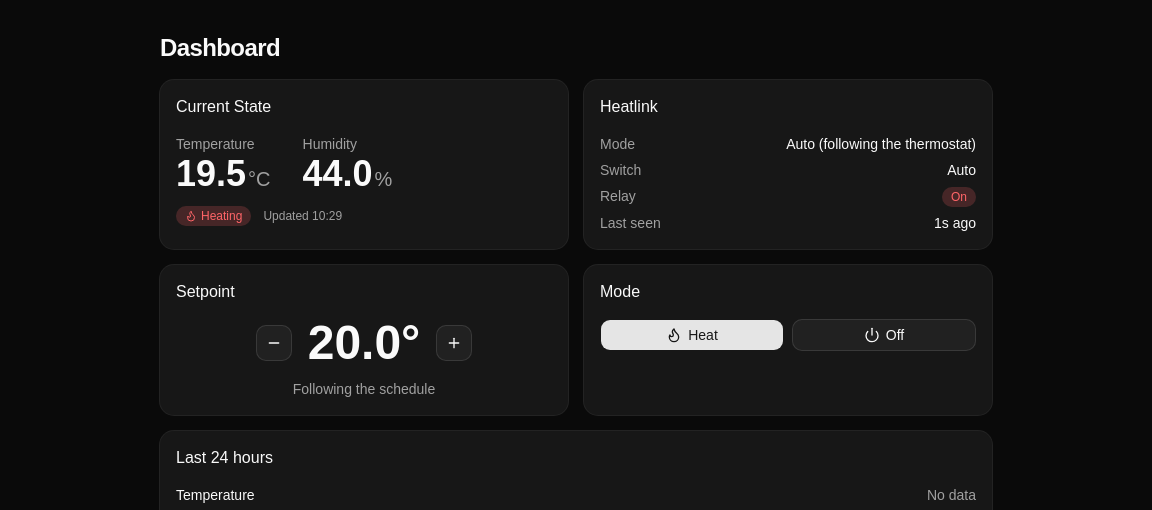
Test: Dashboard › posts a debounced setpoint
Expected: the text "19.5" is shown, left=176, top=153, right=246, bottom=194
Click the button named "Increase setpoint" at (454,343), box left=436, top=325, right=472, bottom=361
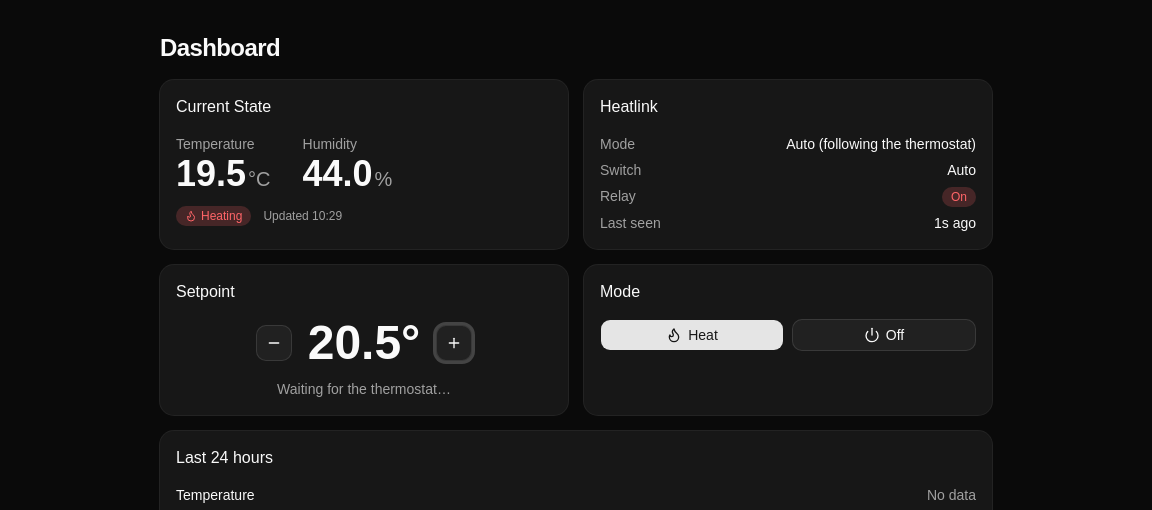
Expected: the text named "Target temperature" reads "20.5°", left=308, top=319, right=420, bottom=367
